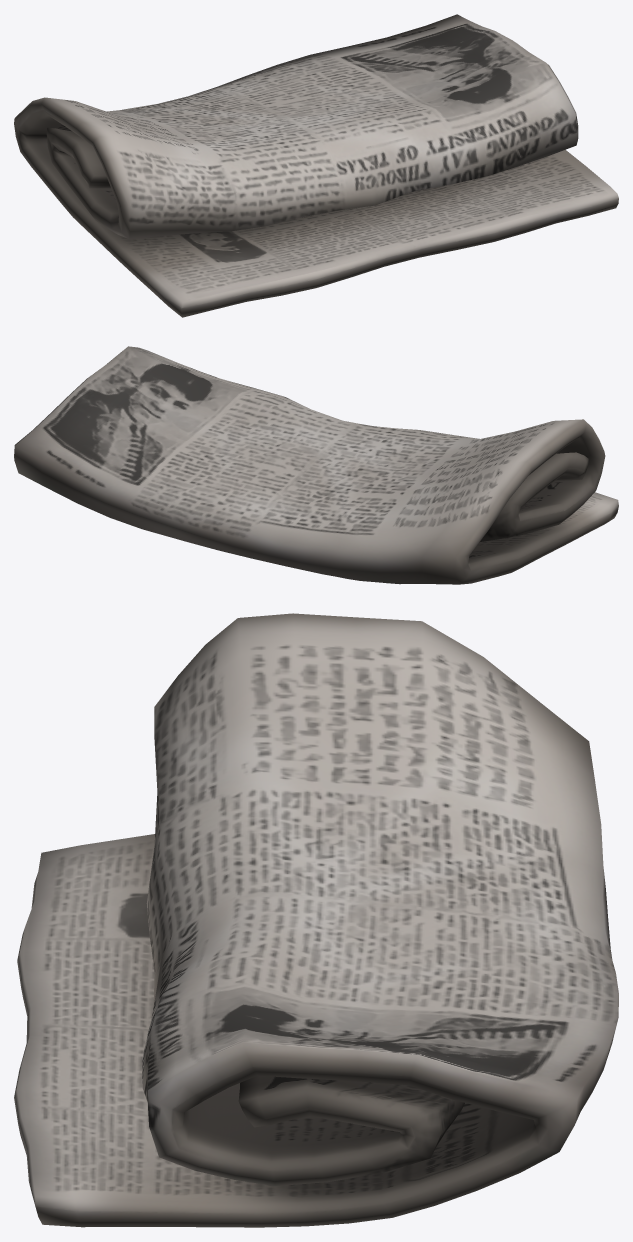
File: folded_newspaper.glb
3 renders of one model, top to bottom at view 1: azimuth 30°, elevation 25°; view 2: azimuth 150°, elevation 25°; view 3: azimuth 270°, elevation 25°, orthographic. The views are drawn at different scales.
Visible parts, largest first — view 1: Plane_0; view 2: Plane_0; view 3: Plane_0.
Boxes of the visible parts, x1,y1,x2,y2 form: Plane_0: (14,14,618,317); Plane_0: (14,346,618,584); Plane_0: (14,613,618,1227).
Size of the model in its own units: 0.3587 by 0.1101 by 0.2359.
Materials: 1 (1 with a texture image).
